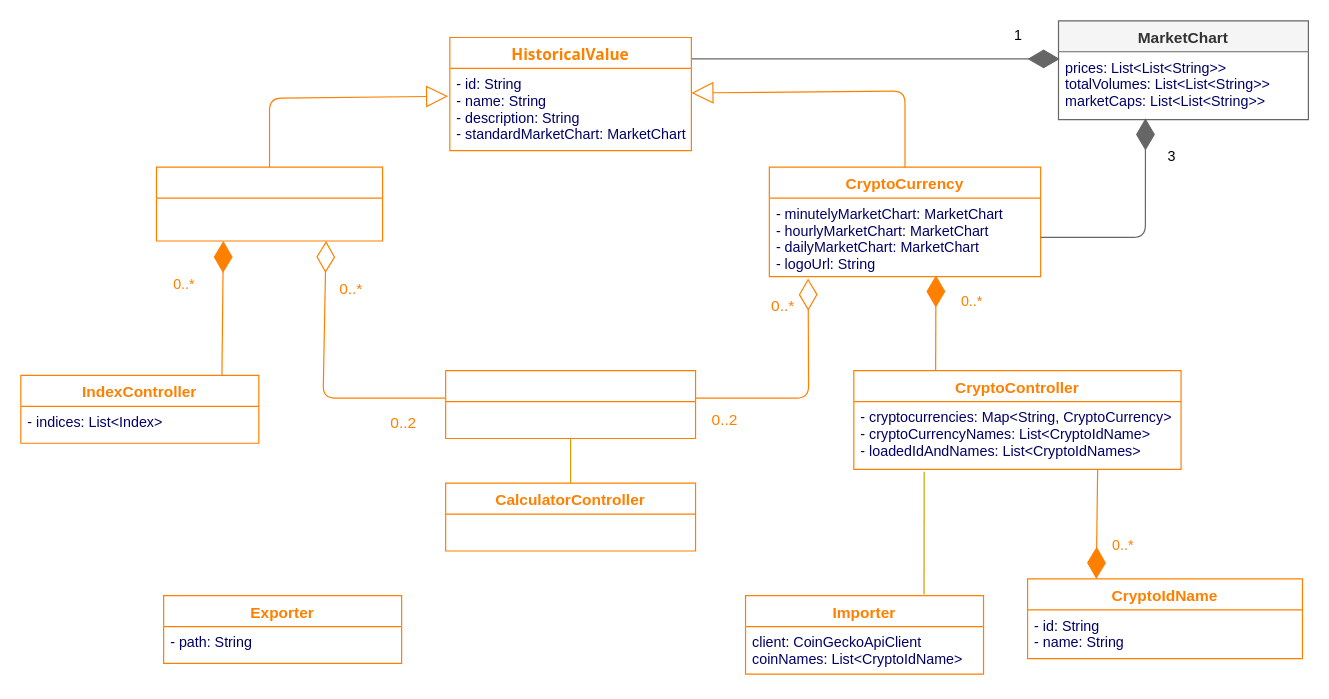
Image size: 1329x699. Some labels were removed from this diagram. Each missing label, with the centre of its shape:
"Calculator" belongs at (x=570, y=404).
"Index" belongs at (x=269, y=203).
